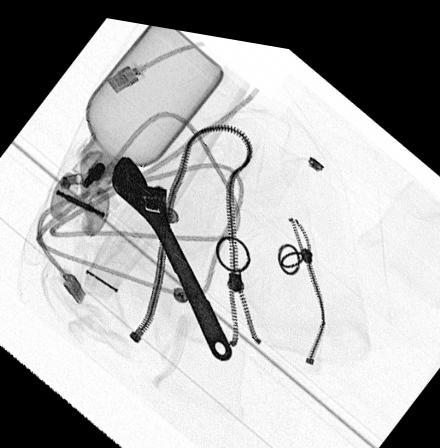Wrench: (111, 152, 233, 353)
